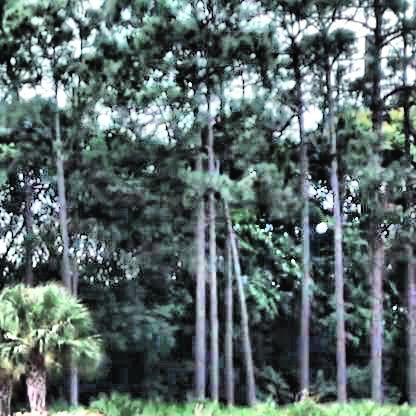golfball: (315, 220, 325, 230)
